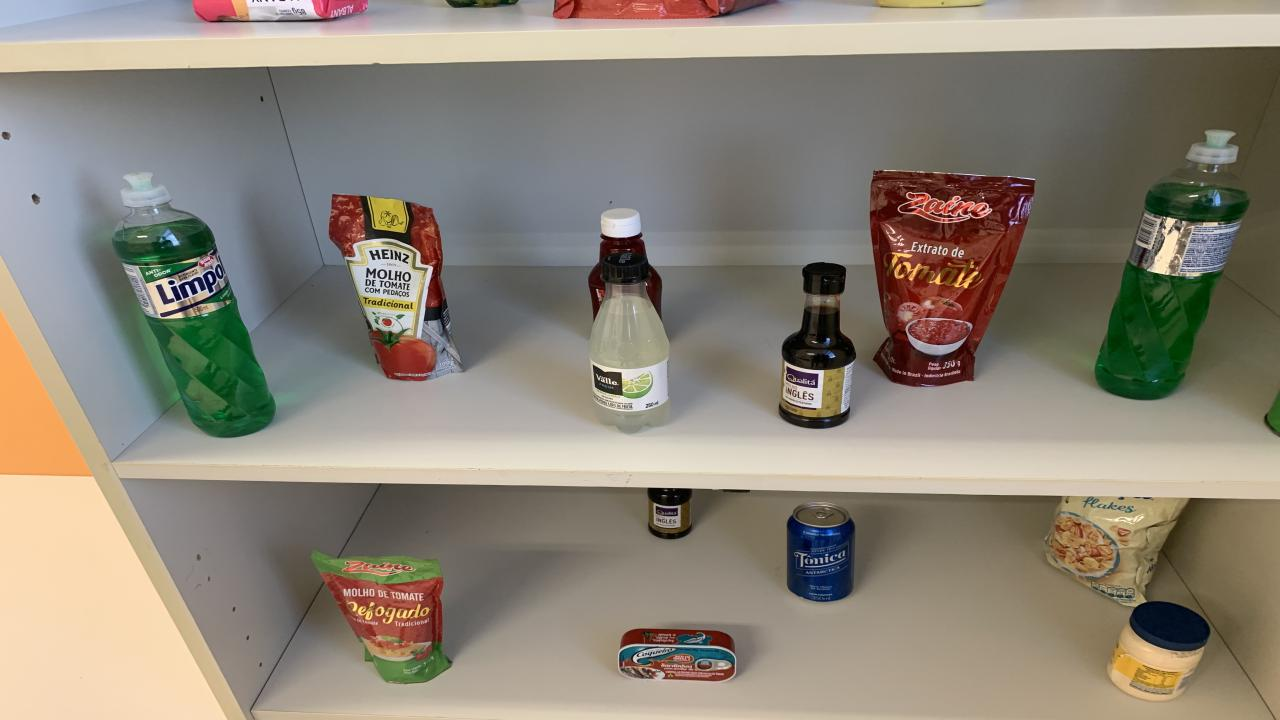Detergent-Cleanup_Items: (112, 172, 275, 437), (1095, 129, 1250, 399)
English_Sauce-Pantry_Items: (780, 262, 855, 428), (648, 488, 692, 538)
Flakes-Snacks: (1045, 497, 1188, 606)
Guava-Snacks: (552, 0, 772, 19)
Ketchup-Pantry_Items: (600, 208, 645, 261), (588, 262, 605, 317), (648, 268, 662, 313)
Mayonnaise-Pantry_Items: (1108, 602, 1210, 701)
Soap-Cleanup_Items: (192, 0, 368, 22)
Soda-Drinks: (590, 251, 670, 433)
Tomato_Sauce-Pantry_Items: (870, 171, 1035, 386), (330, 195, 462, 381), (312, 551, 450, 682)
Tonic-Drinks: (788, 502, 855, 602)
Tuna_Can-Pantry_Items: (618, 628, 738, 682)
